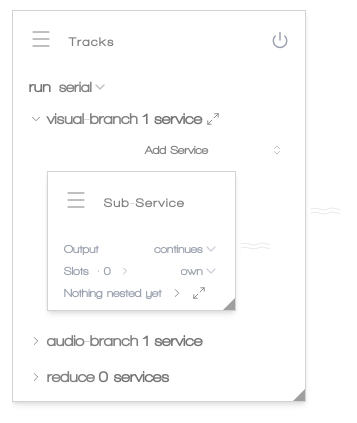
the Tracks panel › folds a track by its name, and nothing else
This screenshot has width=357, height=423.
Click the text "visual-branch" at [92, 119], box [47,107,138,131]
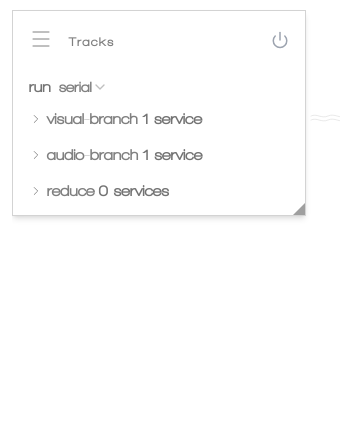
Check: the text "Nothing nested yet" is gone
# … and opens its neighbour without touching it.
Click the text "audio-branch" at [93, 155], box [47,143,138,167]
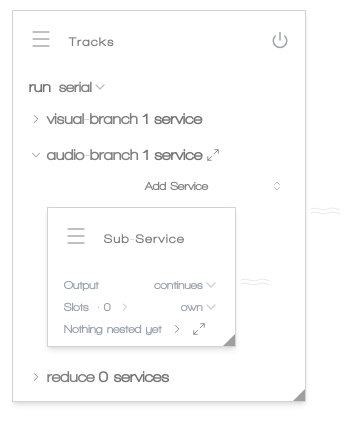
Check: the button titled "Open Tracks · audio-branch as its own level" is shown, box [206,148,220,162]
